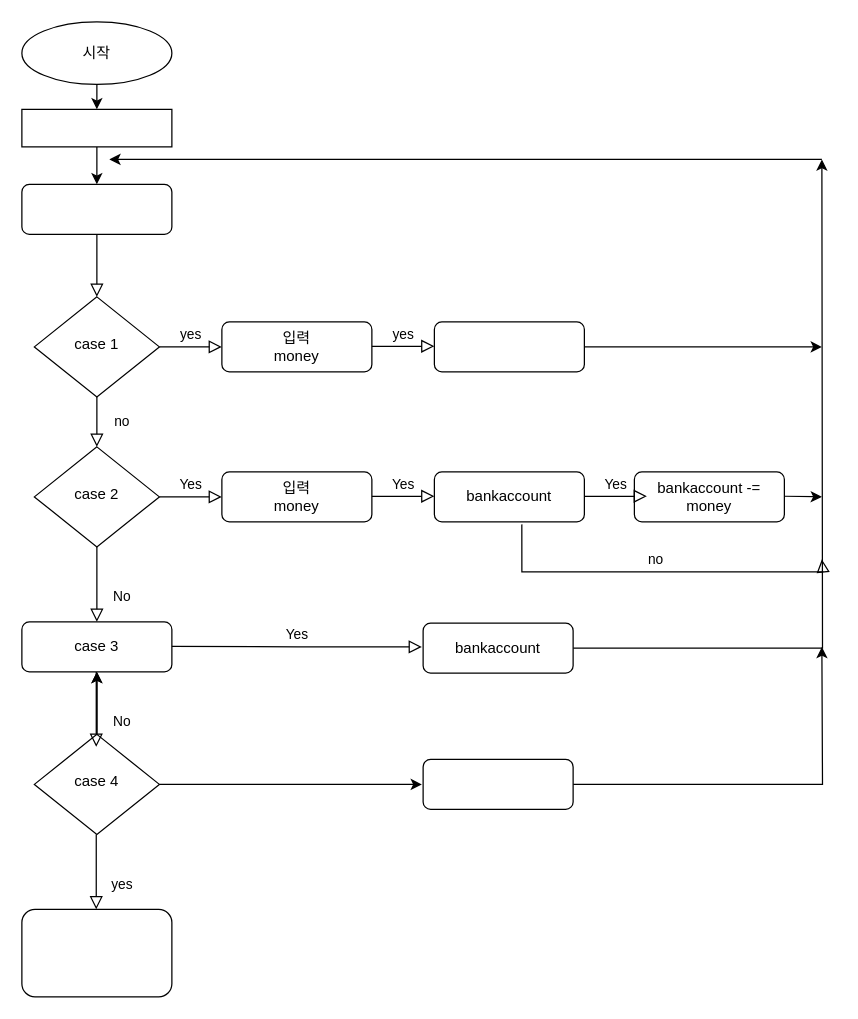
Image size: 858x1019. Some labels were removed from this diagram. The box of each missing label's shape, as (x1, y1, x2, y2) in pixels:
bankaccount += money: (433, 321, 584, 372)
bankaccount = 0: (21, 108, 172, 147)
입력 menu: (21, 183, 172, 234)
잘못된 입력 메시지: (422, 758, 573, 809)
종료: (21, 908, 172, 997)
